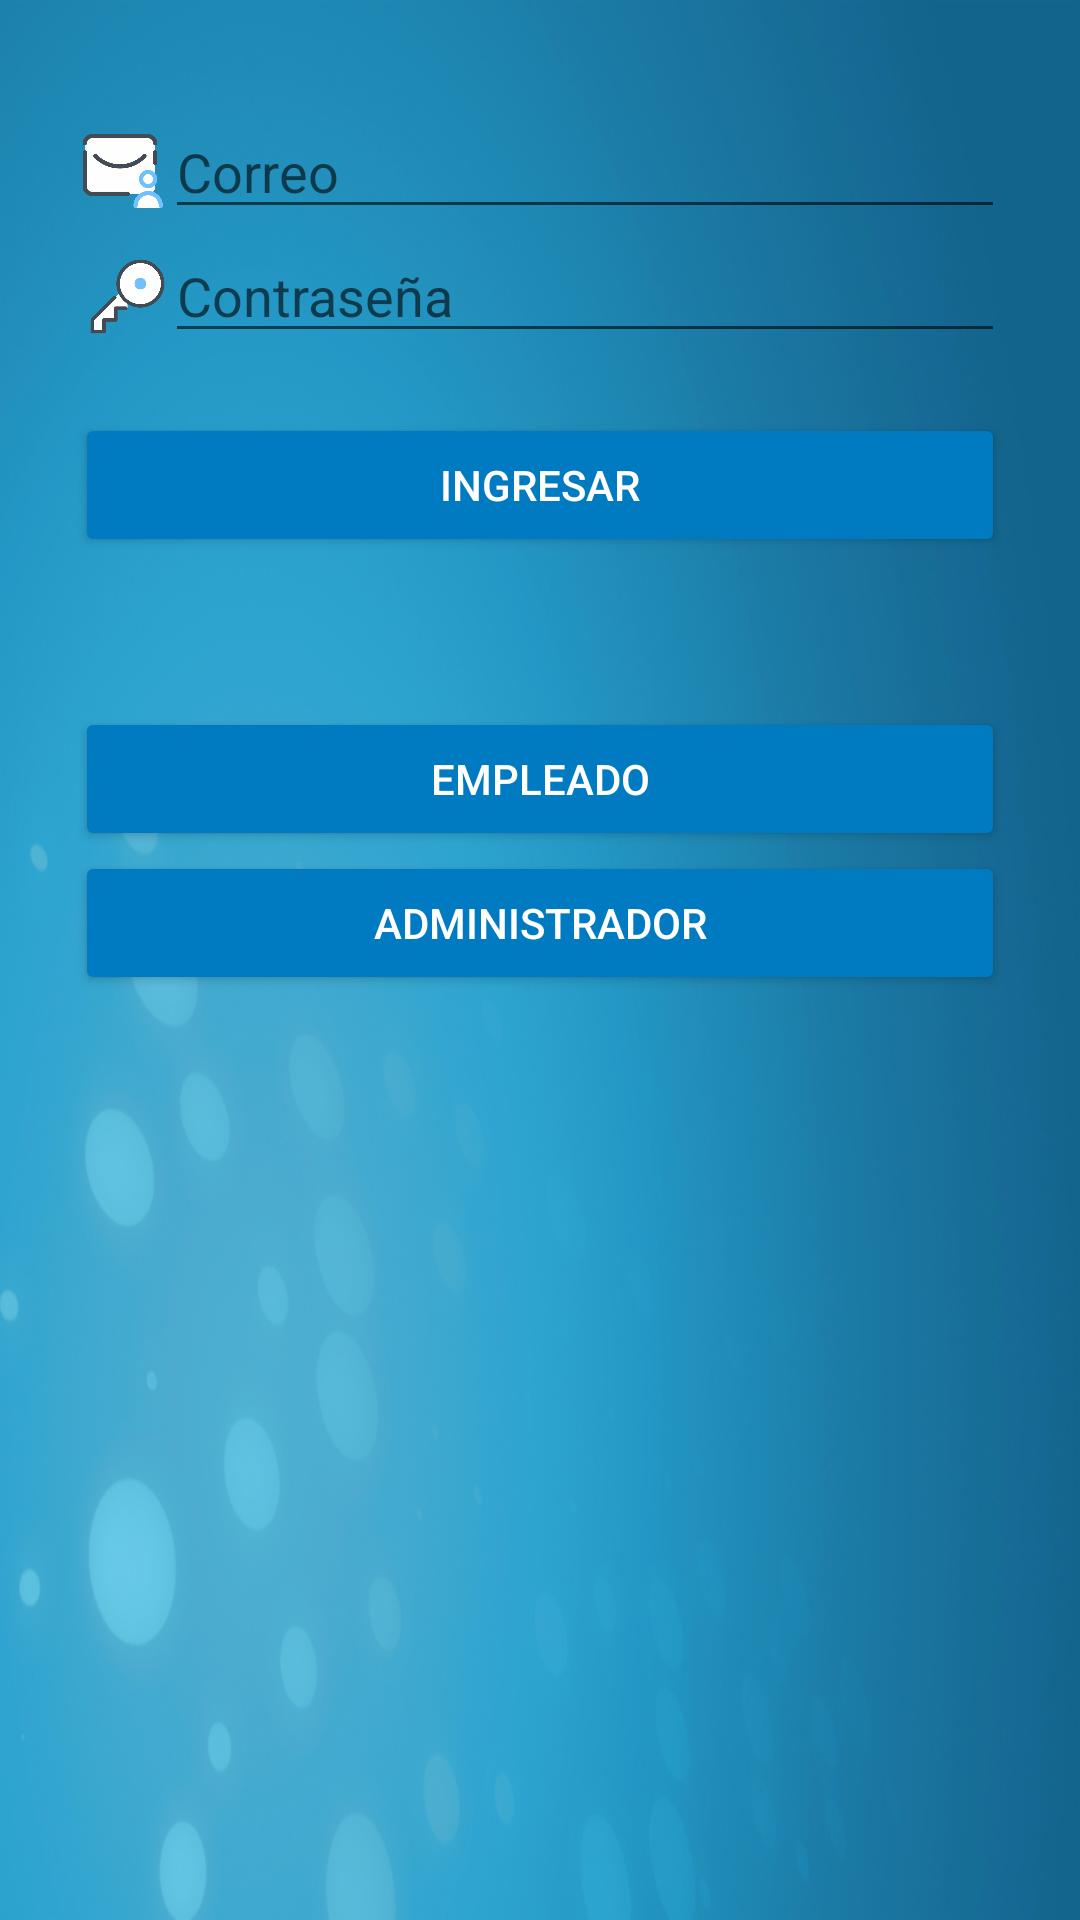

Where to tap for icons on this 1080 × 1920 app screen, as point (x, y):
key: point (127, 296)
mail: point (123, 171)
